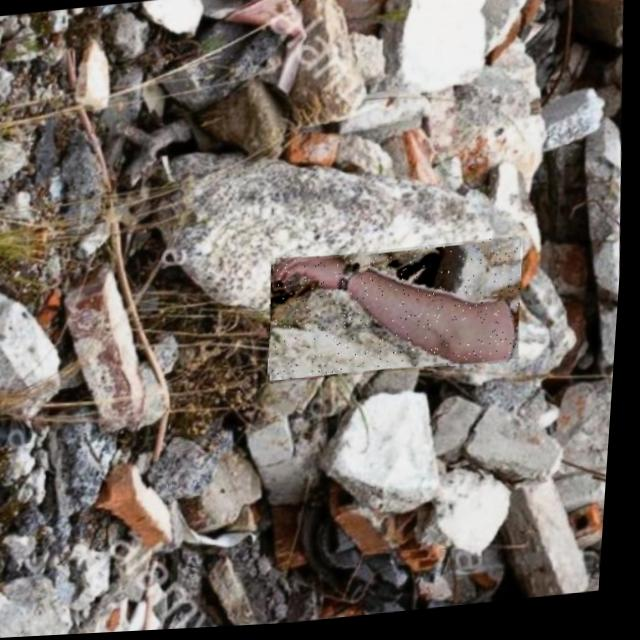Person in Rubble: (267, 241, 530, 388)
